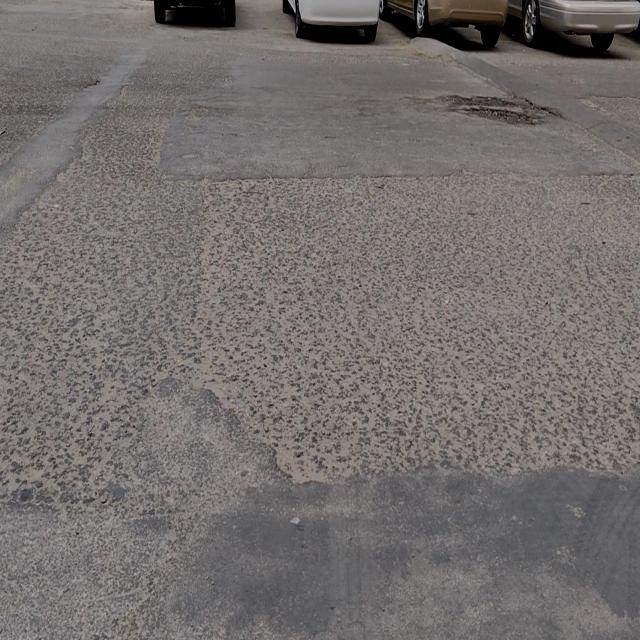Potholes: (444, 91, 546, 128)
